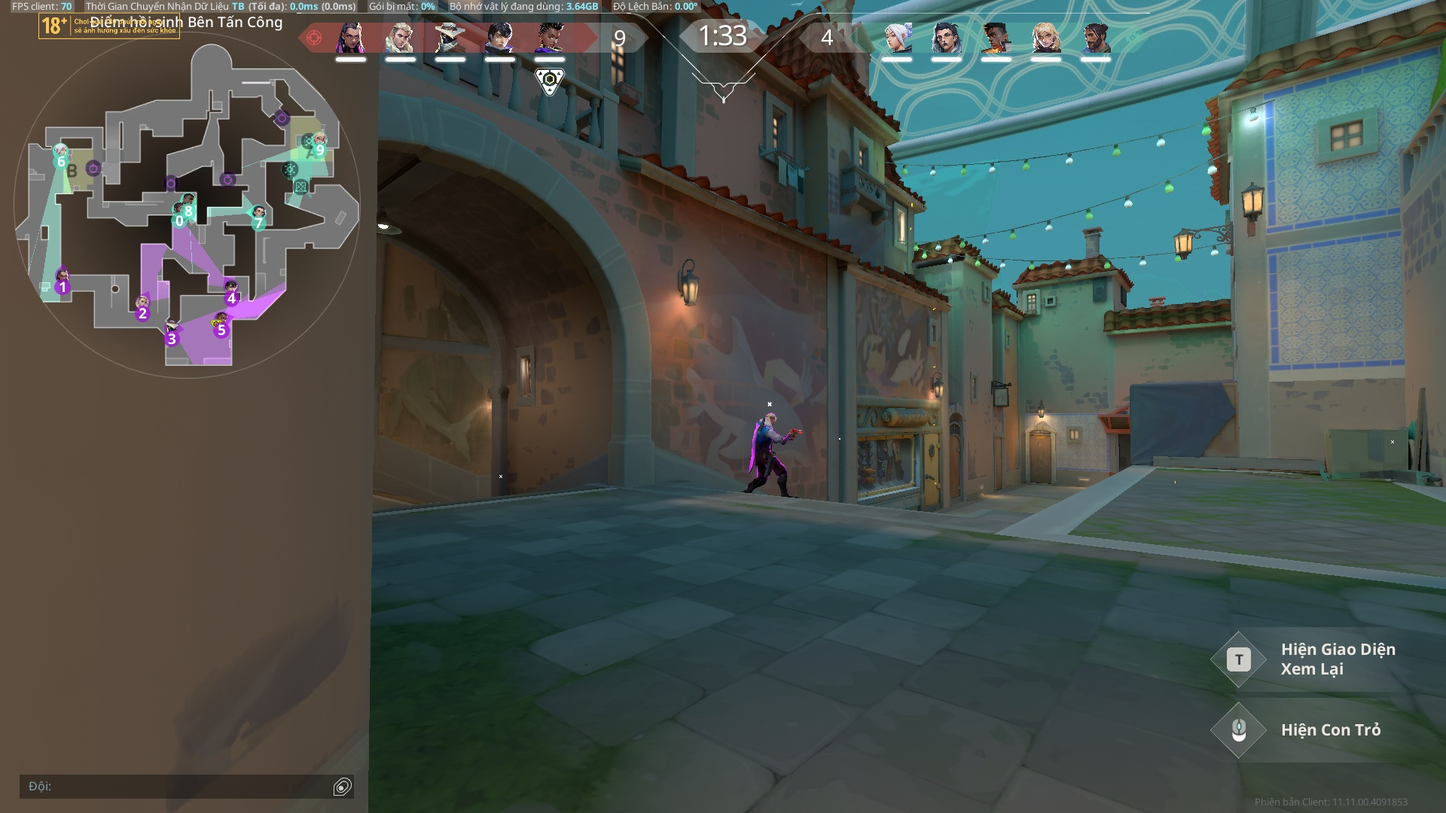body: (755, 419, 776, 454)
head: (766, 410, 777, 425)
